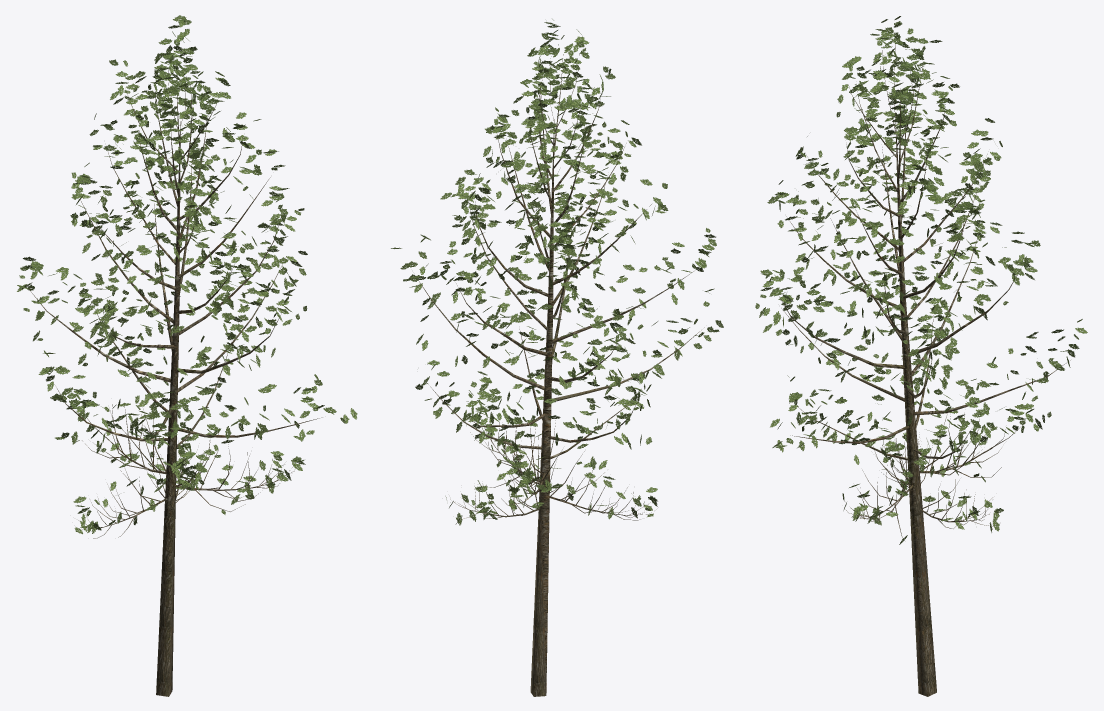
File: treeset3.glb
3 views of the same model, side by side, from view 1: azimuth 30°, elevation 25°; view 2: azimuth 150°, elevation 25°; view 3: azimuth 270°, elevation 25° (orthographic). The views are drawn at different scales.
Parts seen in each view (by area): view 1: leaves.002, tree.002; view 2: leaves.002, tree.002; view 3: leaves.002, tree.002.
Part boxes in pixels (left/top/right/bottom): leaves.002: left=17, top=15, right=357, bottom=534; tree.002: left=29, top=47, right=322, bottom=696; leaves.002: left=391, top=19, right=723, bottom=525; tree.002: left=418, top=53, right=704, bottom=696; leaves.002: left=755, top=16, right=1087, bottom=544; tree.002: left=779, top=44, right=1070, bottom=696.
Bounding box in the file's own units: 7.5 × 17.57 × 7.86.
2 materials, 2 textured.
